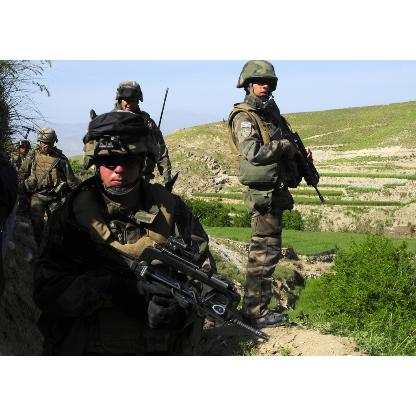gun: (107, 215, 275, 349), (244, 98, 326, 204)
